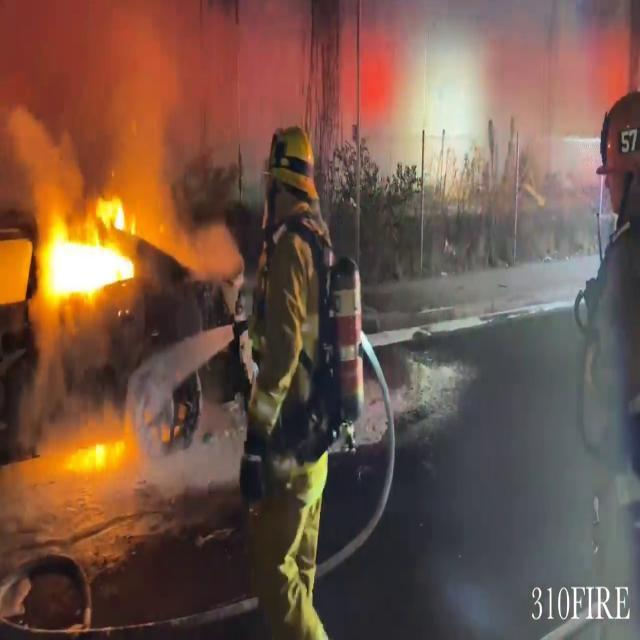Fire: (16, 197, 152, 316), (64, 426, 134, 475)
Smoke: (0, 0, 317, 216)
